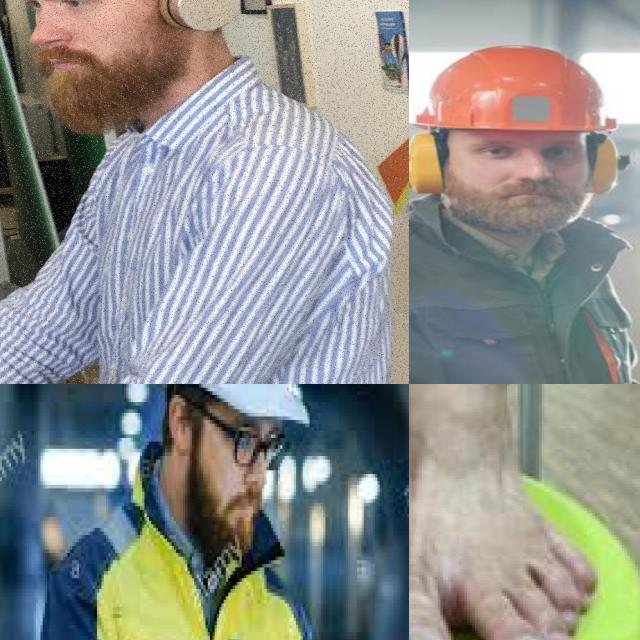Barefoots: (409, 384, 614, 640)
Ear-protection: (409, 45, 630, 238), (0, 0, 273, 118), (144, 384, 316, 427)
No_Glasses: (452, 130, 582, 168)
glasses: (206, 402, 292, 474)
head_helmet: (409, 46, 619, 126)
person: (34, 384, 399, 640), (409, 17, 640, 384)
